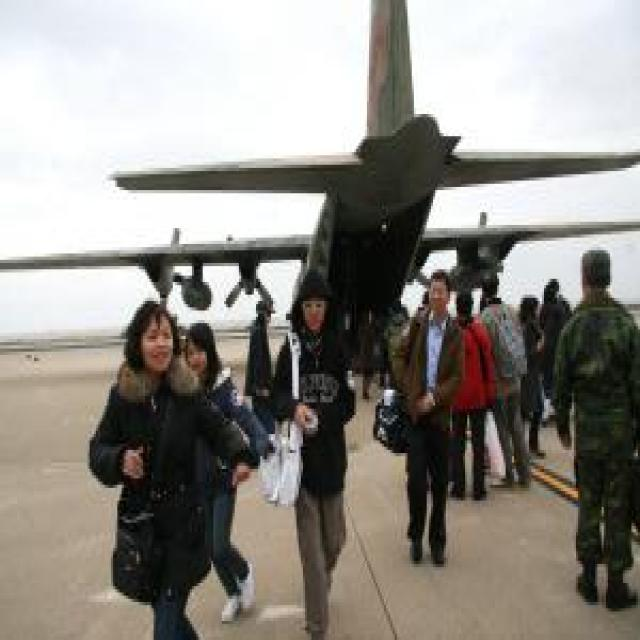non-fight: (82, 296, 264, 637), (533, 247, 638, 615)
